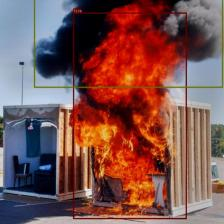fire: (73, 12, 186, 219)
smoke: (33, 0, 222, 88)
